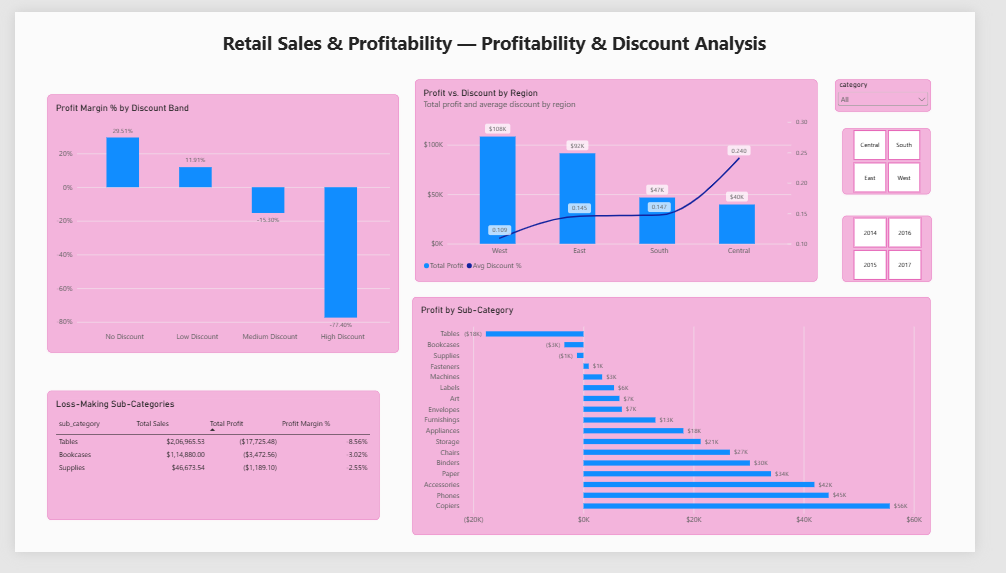

This screenshot's page, from the dashboard's own definition file:
{"tool":"powerbi","page":{"name":"Profitability & Discount Analysis","canvas":[1920,1080],"ordinal":1},"visuals":[{"type":"clusteredColumnChart","title":"Profit Margin % by Discount Band","fields":{"Category":["retail_analytics superstore.Discount Band"],"Y":["retail_analytics superstore.Profit Margin %"]},"box":[66,166,702,516],"z":0},{"type":"tableEx","title":"Loss-Making Sub-Categories","fields":{"Values":["retail_analytics superstore.sub_category","retail_analytics superstore.Total Sales","retail_analytics superstore.Total Profit","retail_analytics superstore.Profit Margin %"]},"box":[66,758,664,258],"z":1000},{"type":"lineClusteredColumnComboChart","title":"Profit vs. Discount by Region","fields":{"Category":["retail_analytics superstore.region"],"Y":["retail_analytics superstore.Total Profit"],"Y2":["retail_analytics superstore.Avg Discount %"]},"box":[800,136,805,403.8],"z":2000},{"type":"textbox","box":[415,34,1090,64],"z":3000},{"type":"clusteredBarChart","title":"Profit by Sub-Category","fields":{"Category":["retail_analytics superstore.sub_category"],"Y":["retail_analytics superstore.Total Profit"]},"box":[796,570,1036,476],"z":4000},{"type":"slicer","fields":{"Values":["DateTable.Year"]},"box":[1654,408,178,132],"z":5000},{"type":"slicer","fields":{"Values":["retail_analytics superstore.category"]},"box":[1640,136,192,64],"z":6000},{"type":"slicer","fields":{"Values":["retail_analytics superstore.region"]},"box":[1654,232,176,132],"z":7000}]}

Visuals, with their boxes in screenshot pixels (x1, y1, x2, y2), scaled from the page's 1920x1080 canvas onto the 1006x573 screenshot:
"Profit Margin % by Discount Band" clusteredColumnChart: pyautogui.locateOnScreen(35, 88, 402, 362)
"Loss-Making Sub-Categories" tableEx: pyautogui.locateOnScreen(35, 402, 382, 539)
"Profit vs. Discount by Region" lineClusteredColumnComboChart: pyautogui.locateOnScreen(419, 72, 841, 286)
textbox: pyautogui.locateOnScreen(217, 18, 789, 52)
"Profit by Sub-Category" clusteredBarChart: pyautogui.locateOnScreen(417, 302, 960, 555)
slicer - DateTable.Year: pyautogui.locateOnScreen(867, 216, 960, 286)
slicer - retail_analytics superstore.category: pyautogui.locateOnScreen(859, 72, 960, 106)
slicer - retail_analytics superstore.region: pyautogui.locateOnScreen(867, 123, 959, 193)
